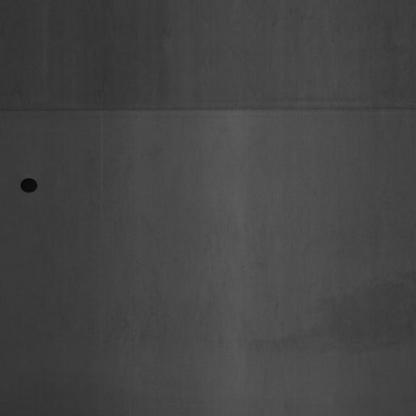punching_hole: (15, 164, 42, 200)
welding_line: (0, 98, 412, 134)
